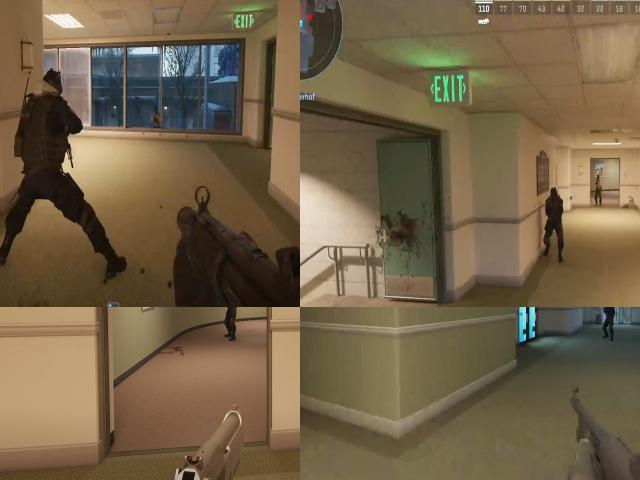CT: (15, 66, 74, 165), (545, 186, 564, 252), (601, 307, 617, 341), (223, 307, 237, 336)
CT-Head: (32, 68, 66, 106), (549, 187, 559, 206)
T: (149, 100, 166, 137), (595, 174, 602, 203)
T-Head: (151, 104, 161, 118), (596, 175, 600, 180)
